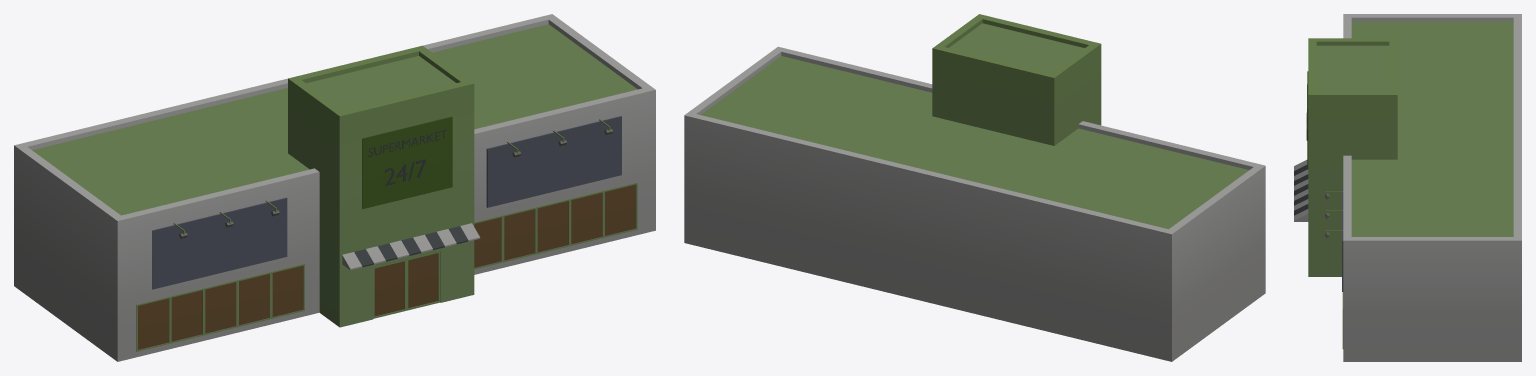
The model's file is Supermarket_03.fbx.
3 views of the same model, side by side, from view 1: azimuth 30°, elevation 25°; view 2: azimuth 150°, elevation 25°; view 3: azimuth 270°, elevation 25° (orthographic). The views are drawn at different scales.
Parts seen in each view (by area): view 1: Supermarket_03; view 2: Supermarket_03; view 3: Supermarket_03.
Part boxes in pixels (x1,y1,x2,y2): Supermarket_03: [14, 14, 655, 361]; Supermarket_03: [684, 14, 1265, 361]; Supermarket_03: [1294, 14, 1521, 361].
Bounding box in the file's own units: 24 × 9 × 10.21.
